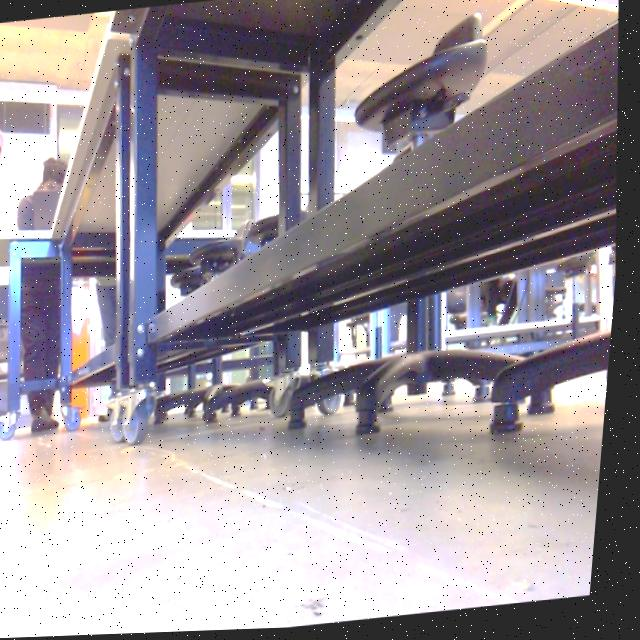redpringles: (0, 92, 60, 640)
